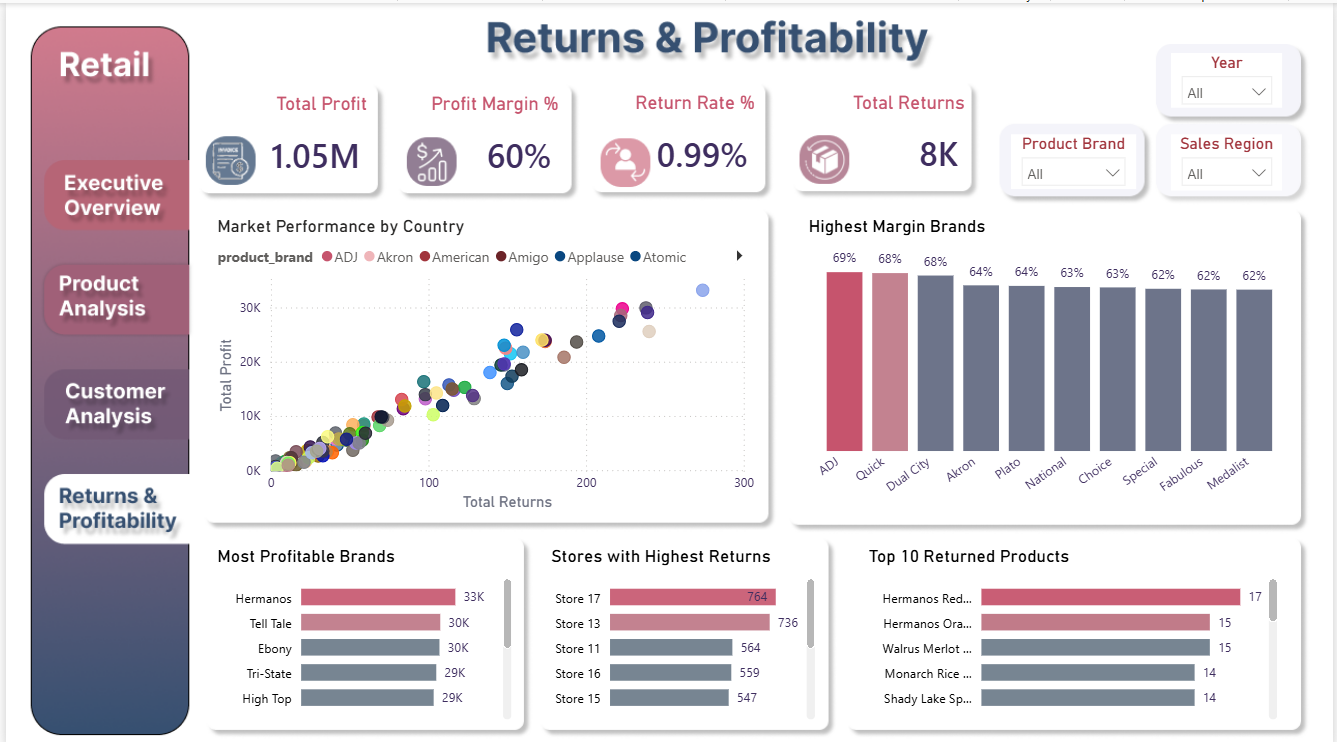

What the dashboard file says about the page in this screenshot:
{"tool":"powerbi","page":{"name":"Returns & Profitability Analysis ","canvas":[1280,720],"ordinal":3},"visuals":[{"type":"cardVisual","title":"Return Rate %","fields":{"Data":["Measure.Return Rate %"]},"box":[574.3,85.7,153.2,94.1],"z":0},{"type":"cardVisual","title":"Profit Margin %","fields":{"Data":["Measure.Profit Margin %"]},"box":[395.7,86.9,142.4,94.1],"z":1000},{"type":"cardVisual","title":"Total Returns","fields":{"Data":["Measure.Total Returns"]},"box":[769.7,85.7,160.5,92.9],"z":2000},{"type":"cardVisual","title":"Total Profit","fields":{"Data":["Measure.Total Profit"]},"box":[207.5,86.9,146,94.1],"z":3000},{"type":"barChart","title":"Top 10 Returned Products","fields":{"Category":["dimproduct.product_name"],"Y":["Measure.Total Returns"]},"box":[827.8,523.8,404.5,173.1],"z":4000},{"type":"barChart","title":"Stores with Highest Returns","fields":{"Y":["Measure.Total Returns"],"Category":["dimstore.store_name"]},"box":[520.8,523.8,264.8,173.1],"z":5000},{"type":"clusteredBarChart","title":"Most Profitable Brands","fields":{"Category":["dimproduct.product_brand"],"Y":["Measure.Total Profit"]},"box":[199.3,523.8,293.9,173.1],"z":6000},{"type":"columnChart","title":"Highest Margin Brands","fields":{"Y":["Measure.Profit Margin %"],"Category":["dimproduct.product_brand"]},"box":[769.6,205.1,475.7,289.5],"z":7000},{"type":"scatterChart","title":"Market Performance by Country","fields":{"X":["Measure.Total Returns"],"Y":["Measure.Total Profit"],"Series":["dimproduct.product_brand"]},"box":[199.3,205.1,528.1,289.5],"z":8000},{"type":"slicer","title":"Year","fields":{"Values":["dimdate.date_id.Variation.Date Hierarchy.Year","dimdate.date_id.Variation.Date Hierarchy.Quarter"]},"box":[1124.4,48.3,107.4,53.1],"z":9000},{"type":"slicer","title":"Sales Region","fields":{"Values":["dimproduct.product_brand"]},"box":[1124.4,126.7,107.4,54.3],"z":10000},{"type":"slicer","title":"Product Brand","fields":{"Values":["dimproduct.product_brand"]},"box":[970,126.7,120.6,53.1],"z":11000}]}

Visuals, with their boxes in screenshot pixels (x1, y1, x2, y2), scaled from the page's 1280x720 canvas onto the 1337x742 screenshot:
"Return Rate %" cardVisual: [600, 88, 760, 185]
"Profit Margin %" cardVisual: [413, 90, 562, 187]
"Total Returns" cardVisual: [804, 88, 972, 184]
"Total Profit" cardVisual: [217, 90, 369, 187]
"Top 10 Returned Products" barChart: [865, 540, 1287, 718]
"Stores with Highest Returns" barChart: [544, 540, 821, 718]
"Most Profitable Brands" clusteredBarChart: [208, 540, 515, 718]
"Highest Margin Brands" columnChart: [804, 211, 1301, 510]
"Market Performance by Country" scatterChart: [208, 211, 760, 510]
"Year" slicer: [1174, 50, 1287, 104]
"Sales Region" slicer: [1174, 131, 1287, 187]
"Product Brand" slicer: [1013, 131, 1139, 185]
